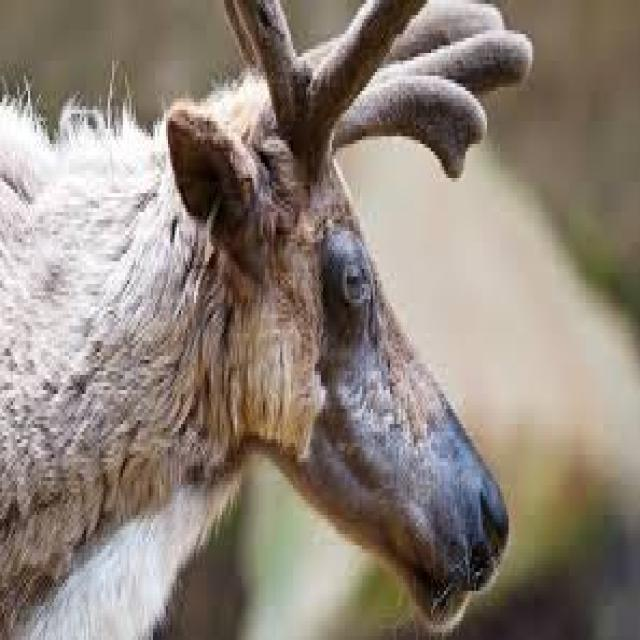Reindeer: (0, 0, 532, 640)
